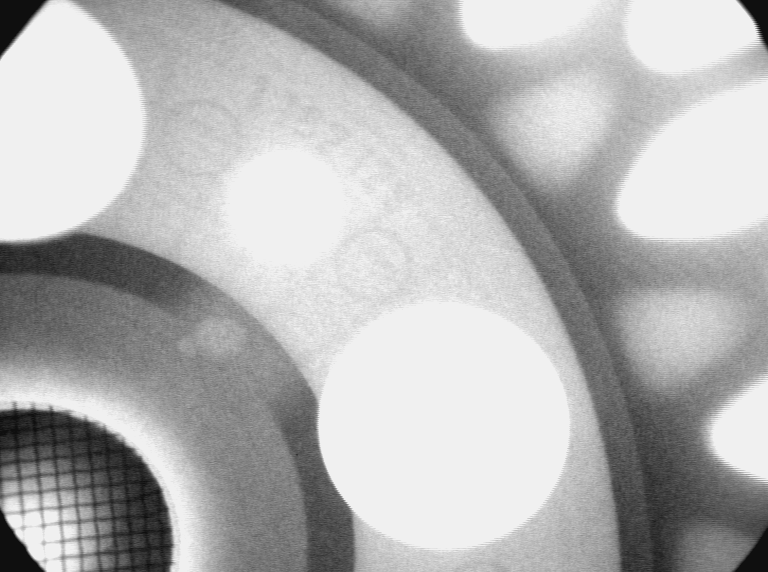defect: (174, 312, 253, 370)
